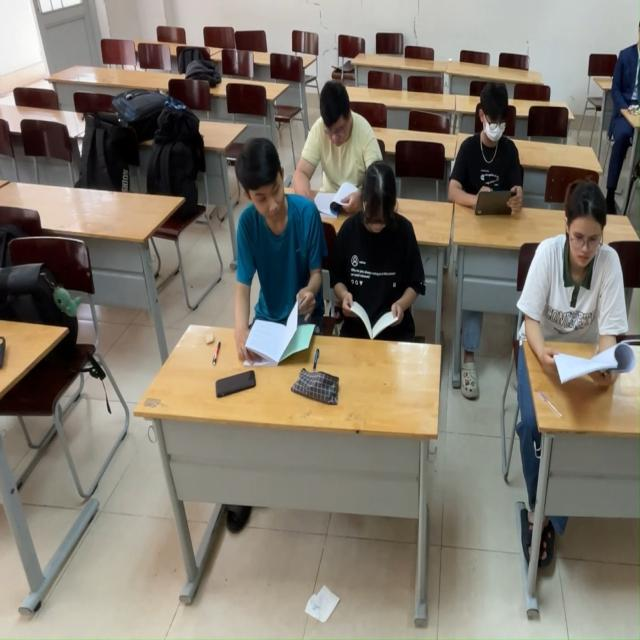read: (218, 142, 326, 367), (527, 189, 629, 405), (336, 175, 440, 338), (454, 74, 528, 223), (305, 70, 374, 216)
